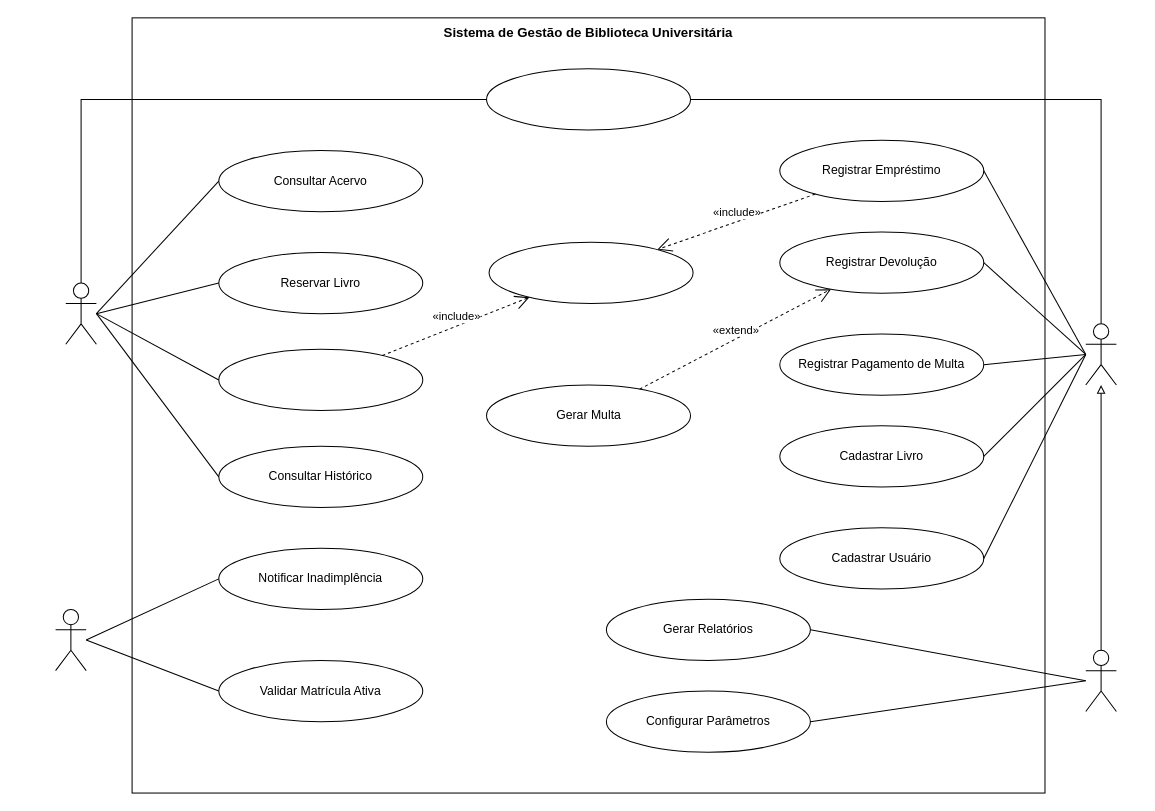
Image size: 1155x811. Some labels were removed from this diagram. The shapes that lost their labels are listed below. From the top down, each one's centre as x and y in pixels, then its label:
the point at 588,99: Fazer Login
the point at 590,272: Validar Situação do Leitor
the point at 80,313: Aluno
the point at 1100,354: Bibliotecário
the point at 320,379: Renovar Empréstimo
the point at 70,639: Sistema Acadêmico
the point at 1100,680: Coordenador
